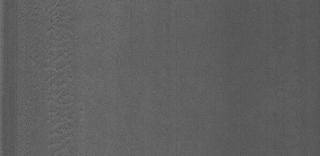silk spot: (27, 5, 91, 147)
